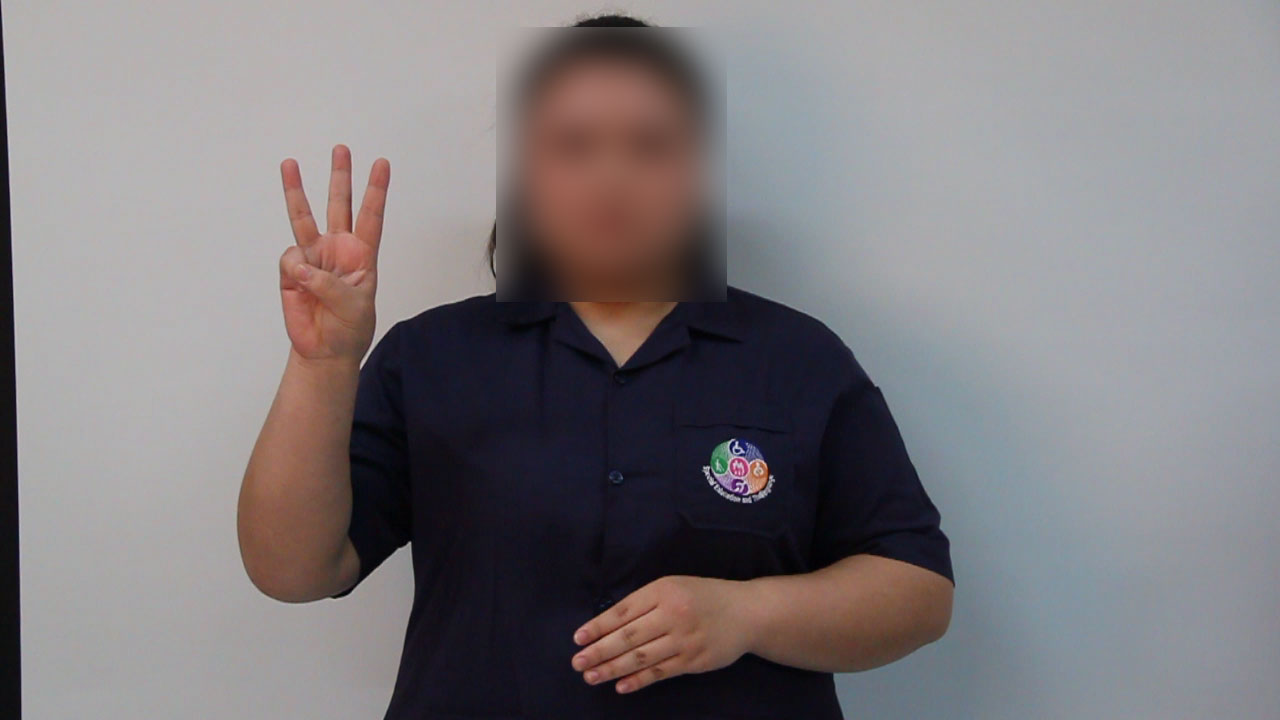wor: (260, 136, 402, 372)
